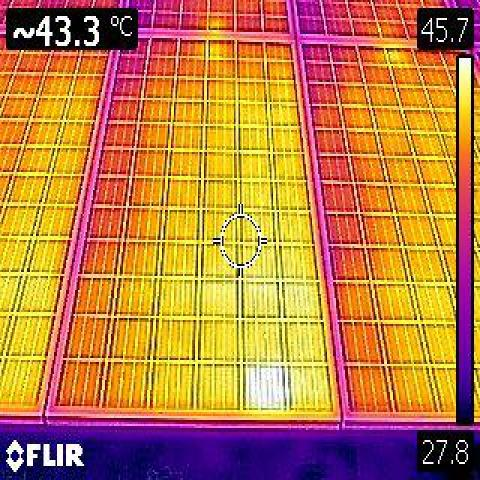fault: (244, 360, 292, 410)
